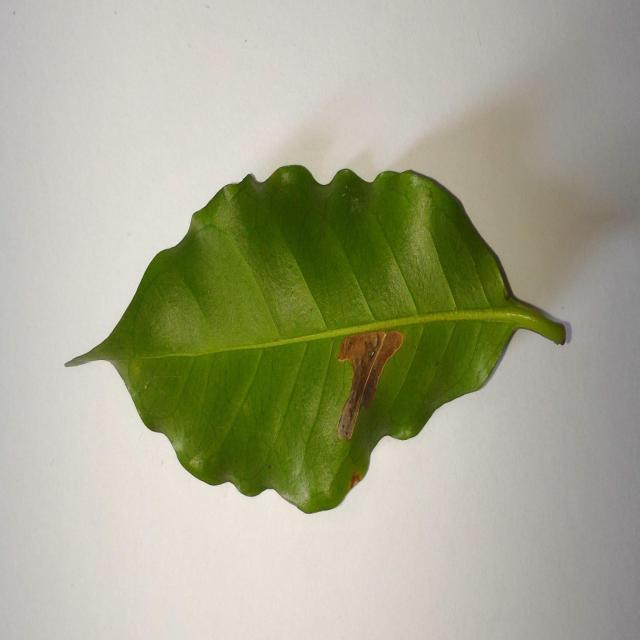Plaga-Minador: (66, 166, 572, 517)
